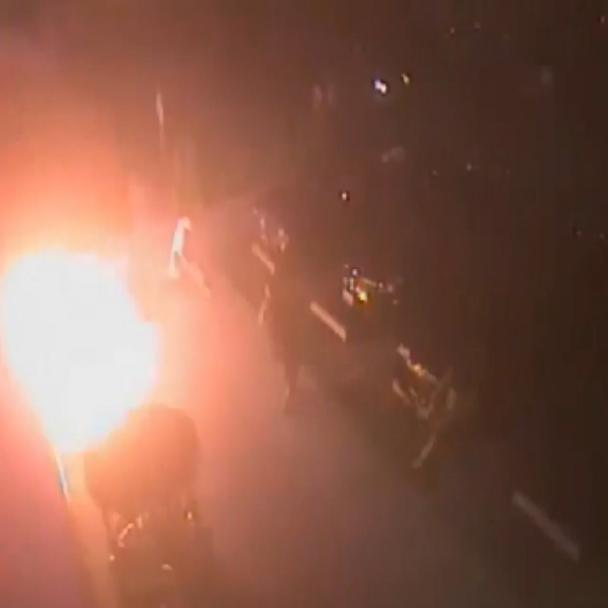Fire: (0, 180, 194, 535)
